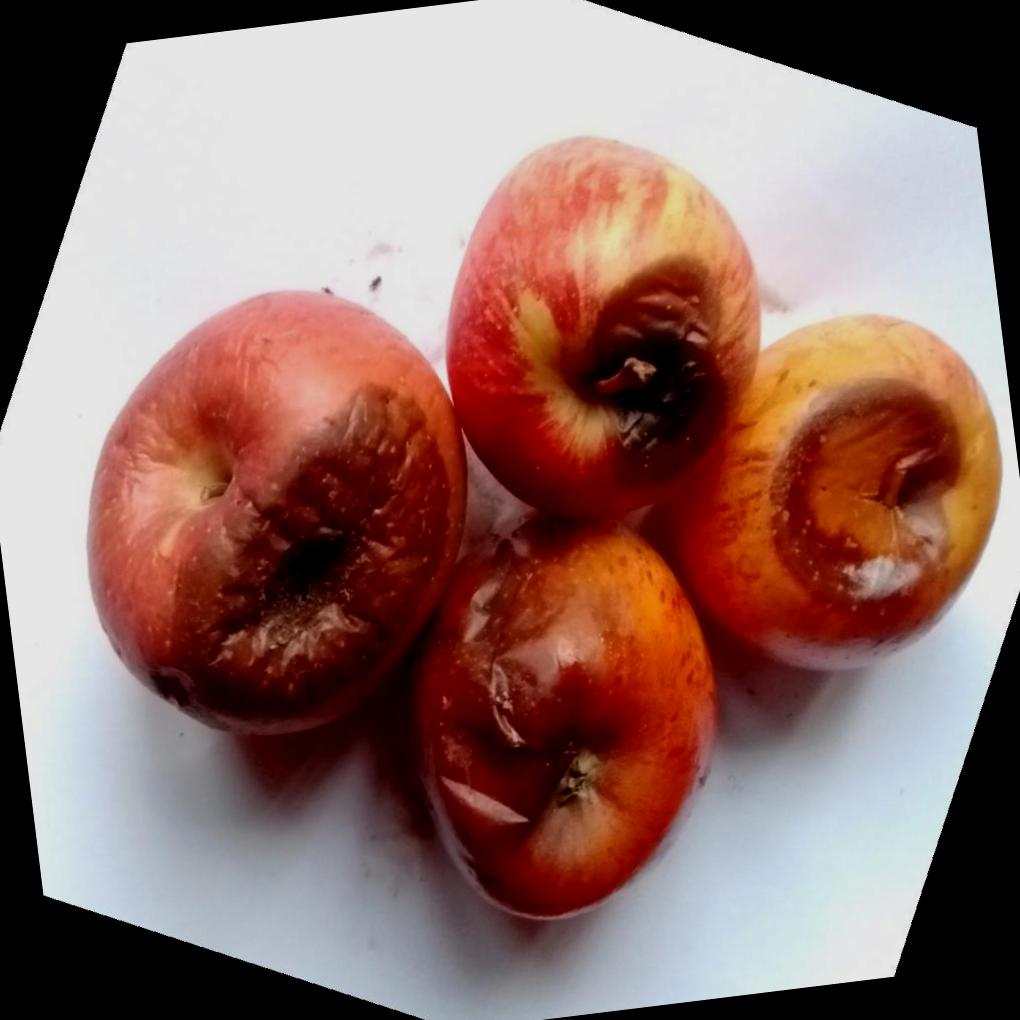FreshOrange: (86, 136, 989, 921)
